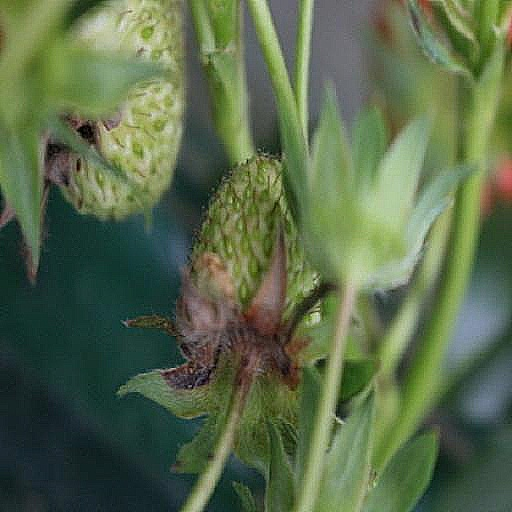Gray Mold: (121, 112, 338, 307), (0, 228, 123, 417)
